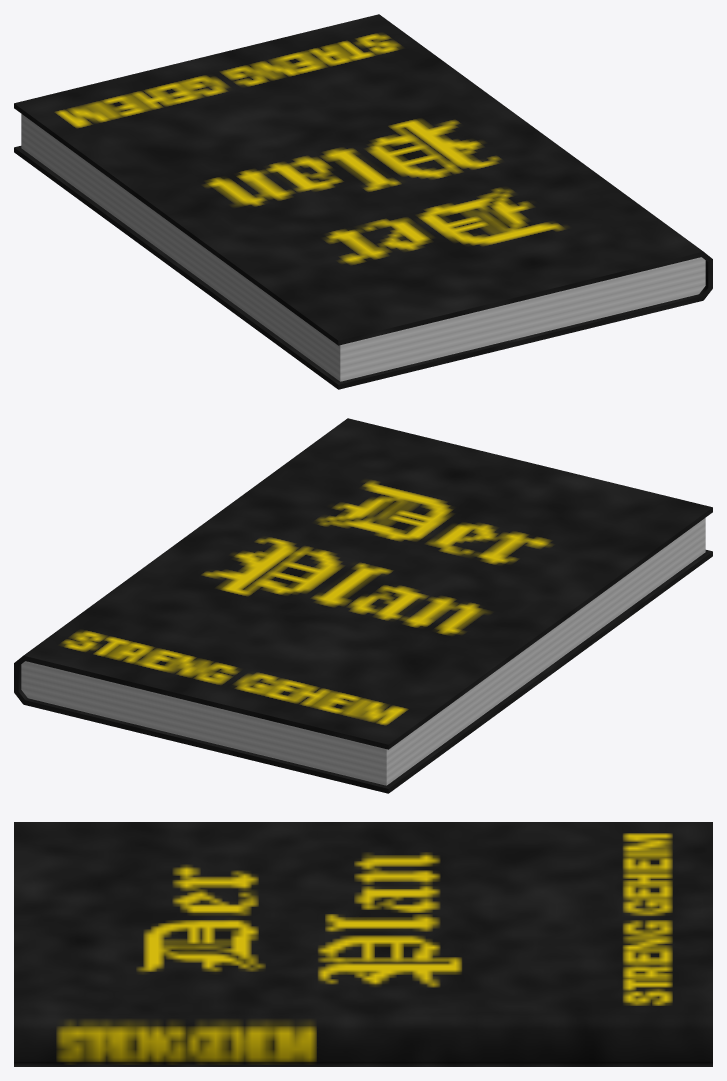
The model's file is secretPlans.fbx.
The picture shows the model from 3 angles, top to bottom: view 1: azimuth 30°, elevation 25°; view 2: azimuth 150°, elevation 25°; view 3: azimuth 270°, elevation 25°; orthographic projection. The views are drawn at different scales.
Visible parts, largest first — view 1: book; view 2: book; view 3: book.
Part boxes in pixels (left/top/right/bottom): book: left=14, top=14, right=712, bottom=389; book: left=14, top=418, right=712, bottom=793; book: left=14, top=822, right=712, bottom=1066.
Size of the model in its own units: 2 by 0.25 by 3.
1 material, 1 textured.
